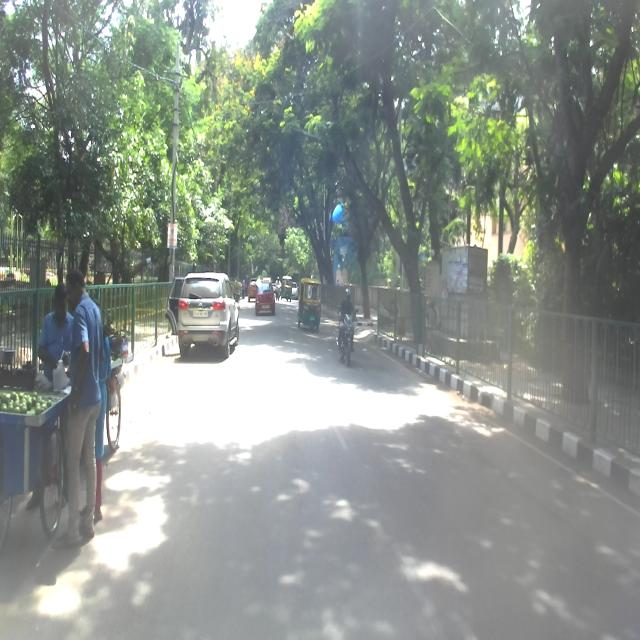car ahead at: (169, 268, 239, 362)
person ahead at: (65, 267, 102, 536)
